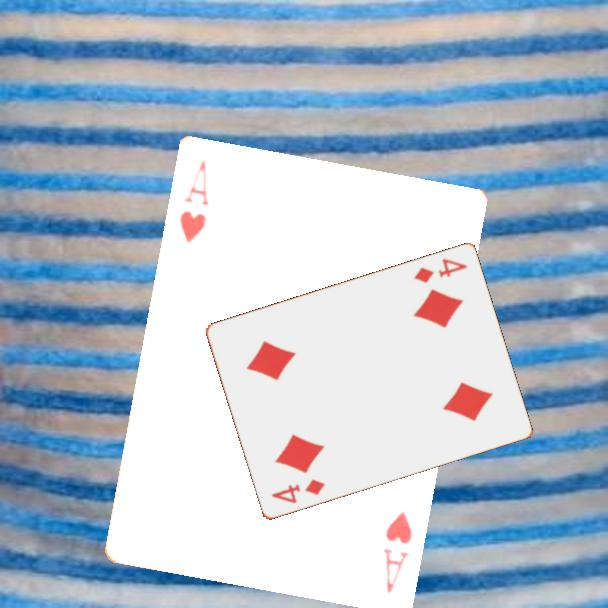d04: (268, 476, 328, 507), (410, 255, 470, 286)
h01: (175, 156, 211, 245), (379, 507, 415, 595)
